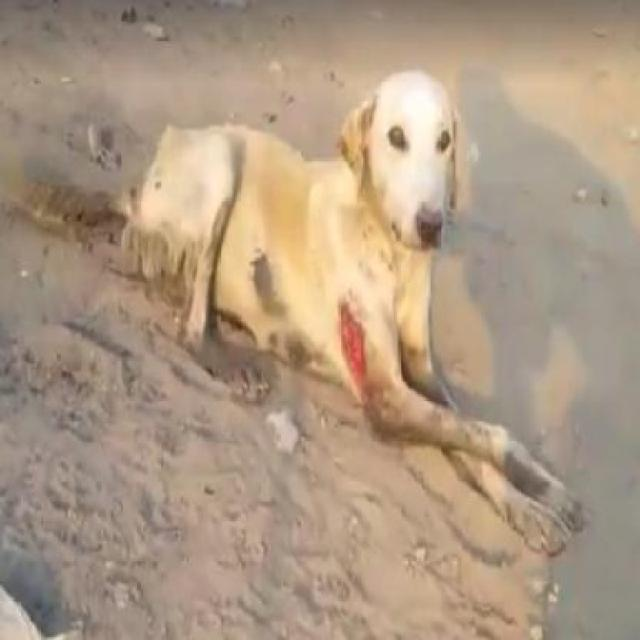dog: (130, 63, 544, 491)
injured: (314, 292, 384, 406)
